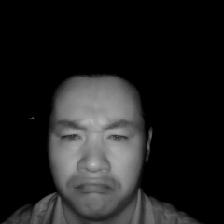sad: (44, 60, 154, 217)
